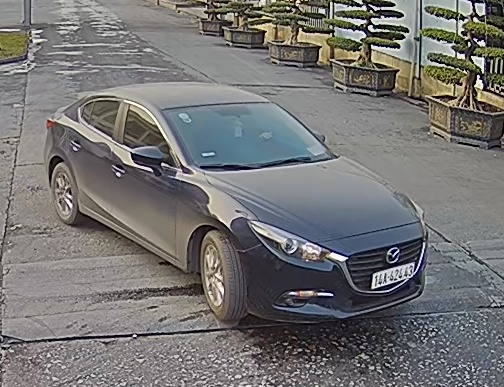vehicle plate: (366, 259, 424, 290)
